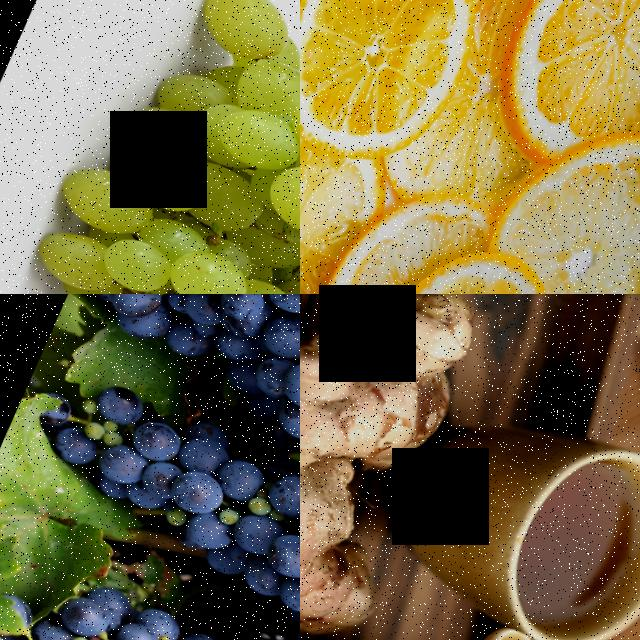ginger: (300, 294, 507, 640)
grapes: (0, 0, 300, 294), (8, 349, 300, 640), (42, 294, 300, 500), (0, 569, 300, 640)
lemon: (300, 0, 501, 178), (483, 0, 640, 171), (300, 106, 394, 294), (340, 228, 592, 294)
